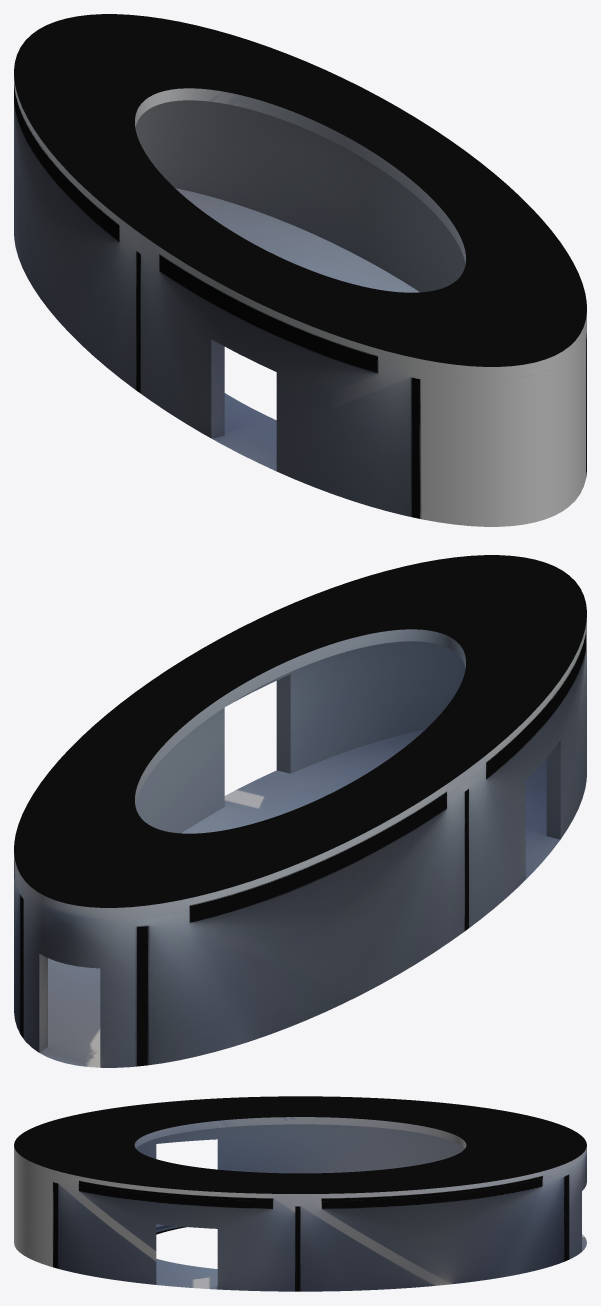
File: center.glb
3 views of the same model, one above another, from view 1: azimuth 30°, elevation 25°; view 2: azimuth 150°, elevation 25°; view 3: azimuth 270°, elevation 25° (orthographic). The views are drawn at different scales.
Parts seen in each view (by area): view 1: center_walls, center_ceiling, center_floor; view 2: center_walls, center_ceiling, center_floor; view 3: center_walls, center_ceiling, center_floor.
Part boxes in pixels (box(x1,y1,x2,y2)): center_walls: box(14, 89, 586, 526); center_ceiling: box(14, 14, 586, 378); center_floor: box(175, 188, 419, 471); center_walls: box(14, 630, 586, 1067); center_ceiling: box(14, 555, 586, 919); center_floor: box(39, 729, 560, 1067); center_walls: box(14, 1124, 586, 1291); center_ceiling: box(14, 1096, 586, 1201); center_floor: box(156, 1224, 586, 1289).
Bounding box in the file's own units: 8.6 × 4.17 × 21.3.
3 materials, 3 textured.
